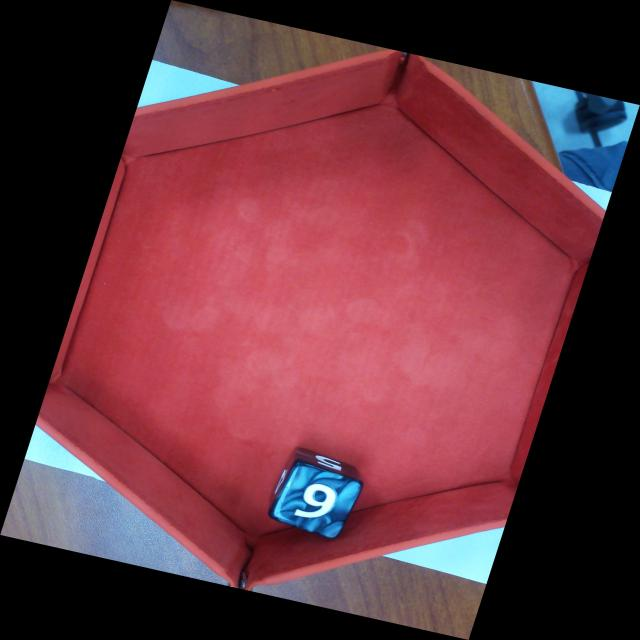dice: (268, 460, 364, 540)
